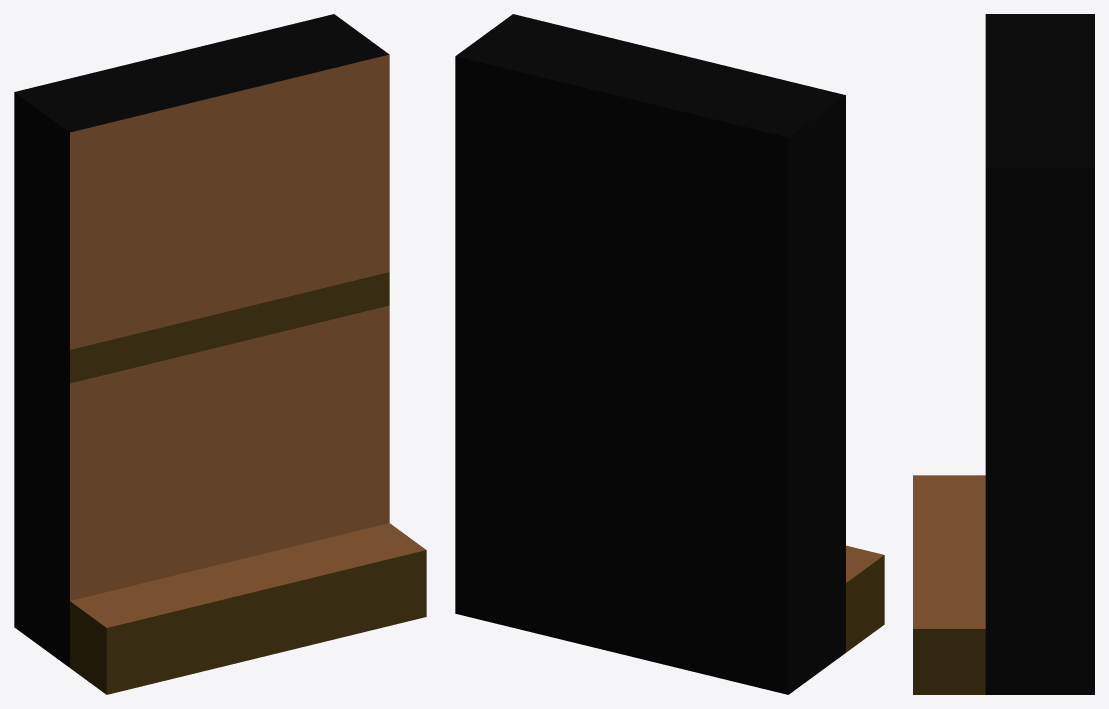
File: wall.FBX
3 renders of one model, left to right at view 1: azimuth 30°, elevation 25°; view 2: azimuth 150°, elevation 25°; view 3: azimuth 270°, elevation 25°, orthographic. The views are drawn at different scales.
Parts seen in each view (by area): view 1: wall1, Box000; view 2: wall1, Box000; view 3: wall1, Box000.
Boxes of the visible parts, bbox=[...] form: wall1: bbox=[14, 14, 389, 667]; Box000: bbox=[70, 523, 426, 694]; wall1: bbox=[455, 14, 845, 694]; Box000: bbox=[846, 545, 884, 652]; wall1: bbox=[985, 14, 1094, 694]; Box000: bbox=[913, 475, 985, 694].
Size of the model in its own units: 100 by 160 by 50.
